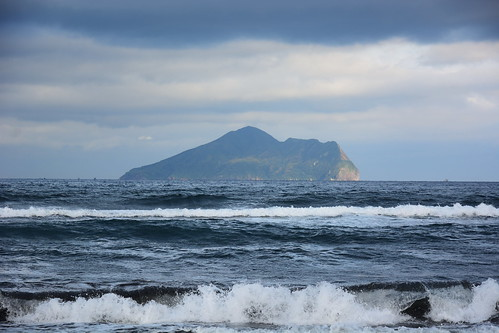turtleIsland: (118, 127, 361, 182)
